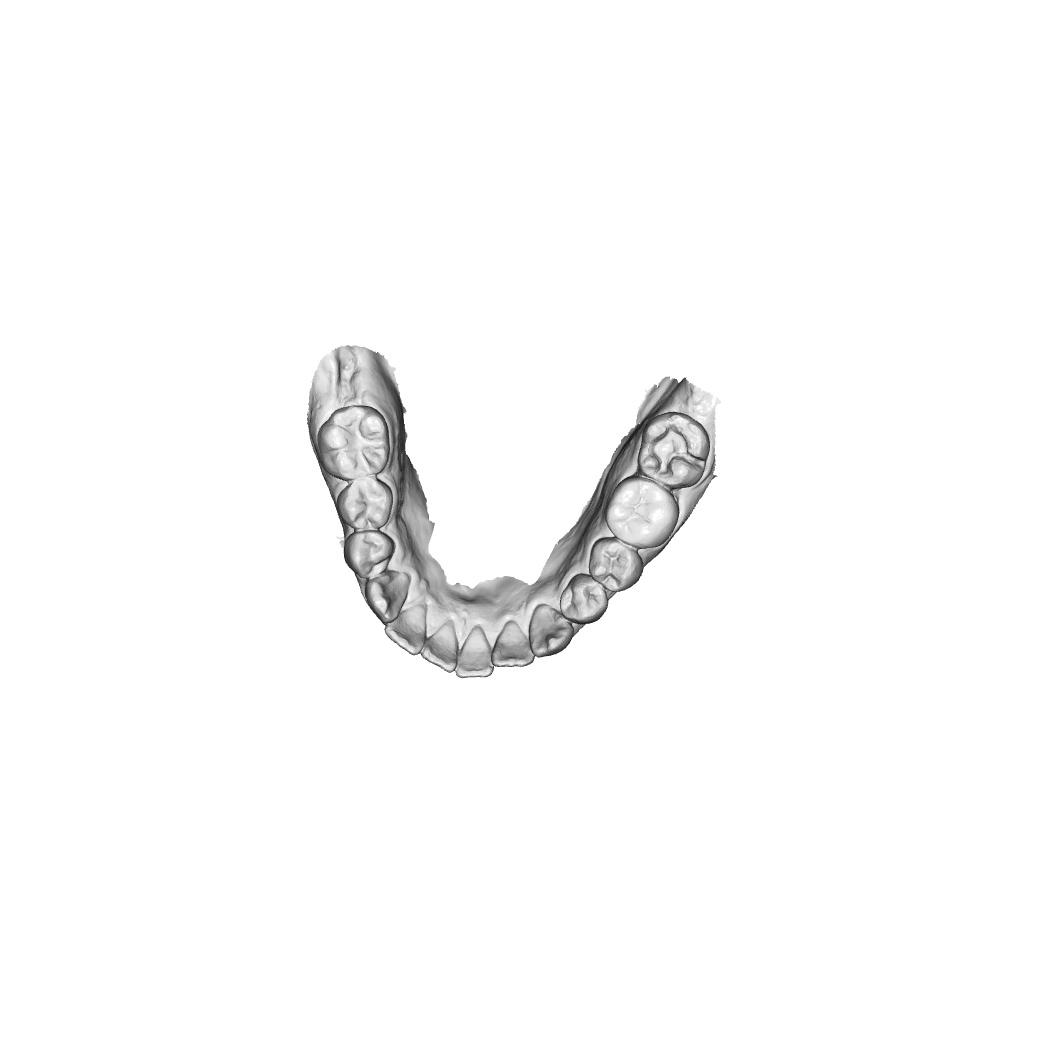canine: (527, 602, 576, 659), (363, 570, 413, 624)
incisor: (384, 603, 429, 658), (489, 618, 535, 669), (420, 617, 461, 674), (454, 623, 494, 680)
inlay: (646, 423, 707, 479)
molar: (603, 474, 681, 551), (315, 403, 391, 480)
premolar: (588, 536, 645, 594), (335, 478, 394, 531), (342, 529, 397, 581), (558, 571, 609, 626)
